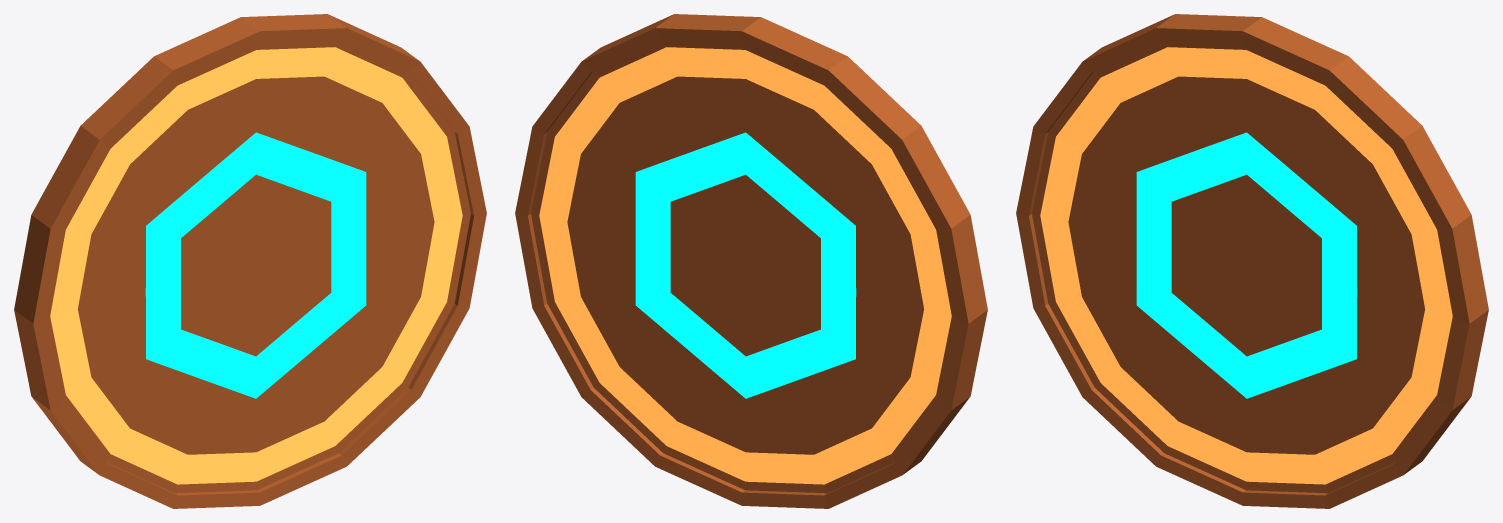
Rendered from coin-copper.glb.
The picture shows the model from 3 angles, left to right: view 1: azimuth 30°, elevation 25°; view 2: azimuth 150°, elevation 25°; view 3: azimuth 330°, elevation 25°; orthographic projection.
Visible parts, largest first — view 1: parkour-coin; view 2: parkour-coin; view 3: parkour-coin.
Part boxes in pixels (x1=…): parkour-coin: x1=14, y1=14, x2=486, y2=508; parkour-coin: x1=515, y1=14, x2=987, y2=508; parkour-coin: x1=1016, y1=14, x2=1488, y2=508.
Size of the model in its own units: 2.12 by 2.12 by 0.1558.
